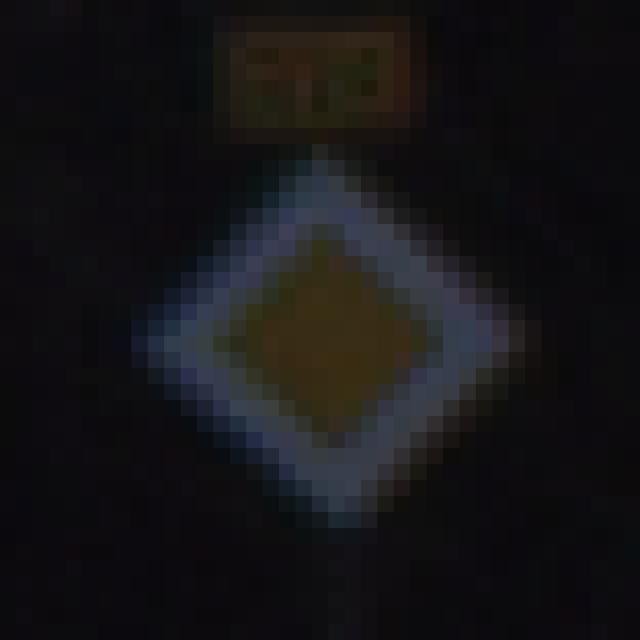Main Road: (99, 97, 559, 561)
